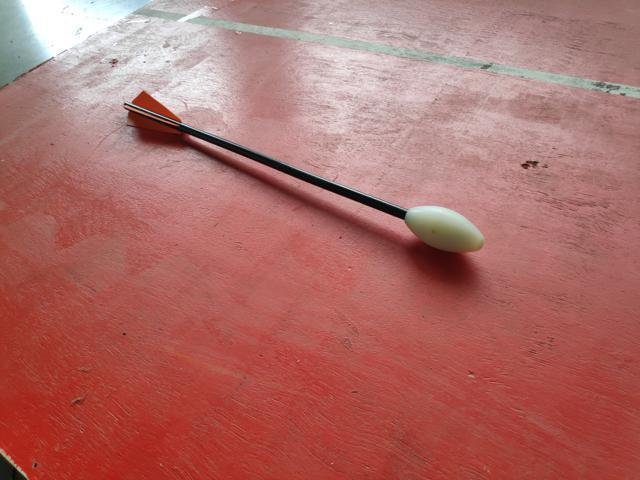Head: (398, 204, 490, 255)
Tail: (118, 84, 190, 133)
